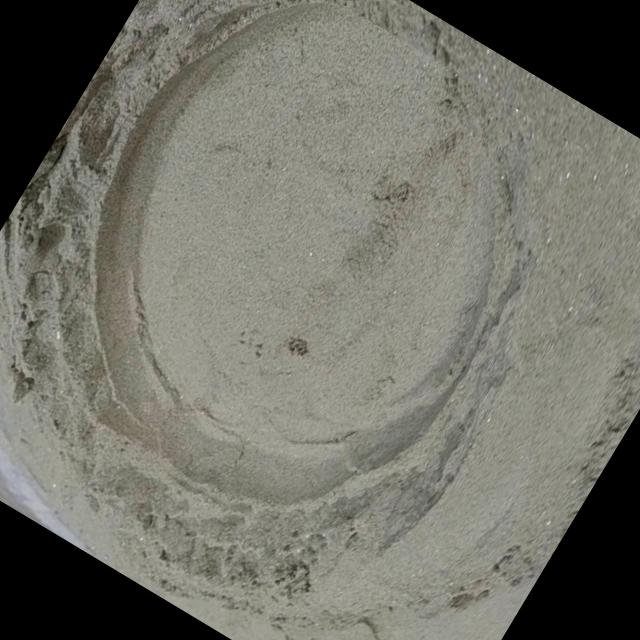C40: (90, 1, 509, 533)
